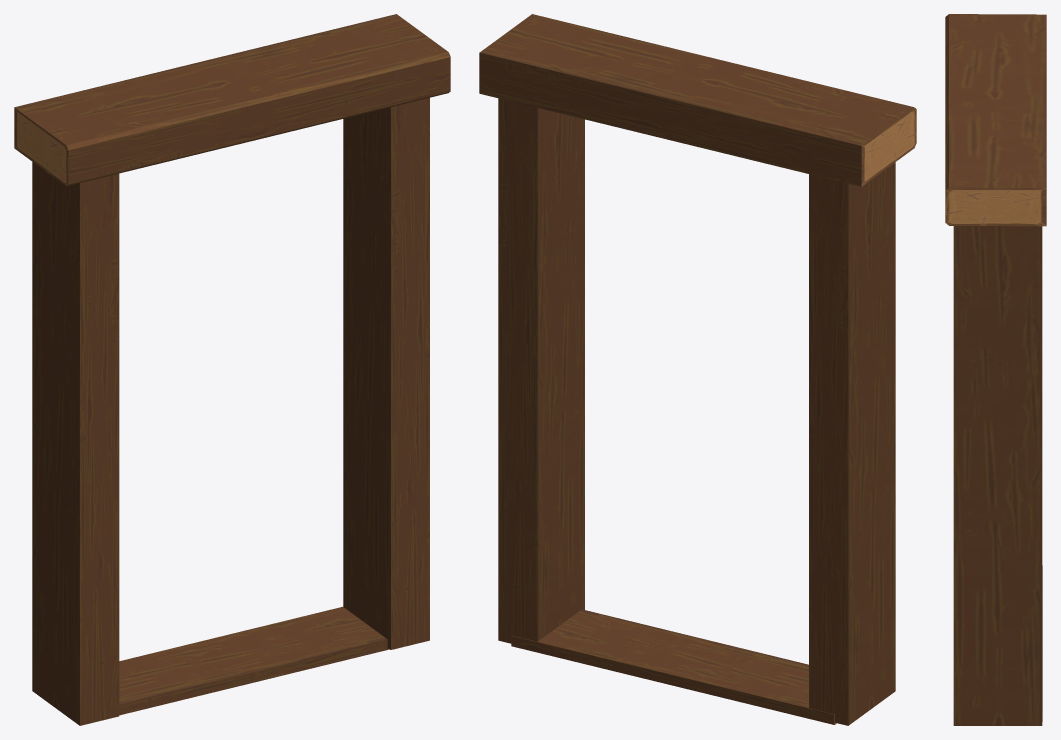
The model's file is DoorFrame_Flat_WoodDark.gltf.
3 renders of one model, left to right at view 1: azimuth 30°, elevation 25°; view 2: azimuth 150°, elevation 25°; view 3: azimuth 270°, elevation 25°, orthographic. The views are drawn at different scales.
Visible parts, largest first — view 1: DoorFrame_Flat_WoodDark; view 2: DoorFrame_Flat_WoodDark; view 3: DoorFrame_Flat_WoodDark.
Boxes of the visible parts, x1=… form: DoorFrame_Flat_WoodDark: x1=14, y1=14, x2=450, y2=725; DoorFrame_Flat_WoodDark: x1=479, y1=14, x2=916, y2=725; DoorFrame_Flat_WoodDark: x1=945, y1=14, x2=1046, y2=725.
Size of the model in its own units: 1.57 by 2.31 by 0.3885.
Materials: 1 (1 with a texture image).
